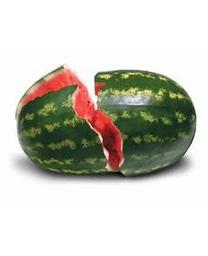watermelon: (14, 64, 197, 177)
